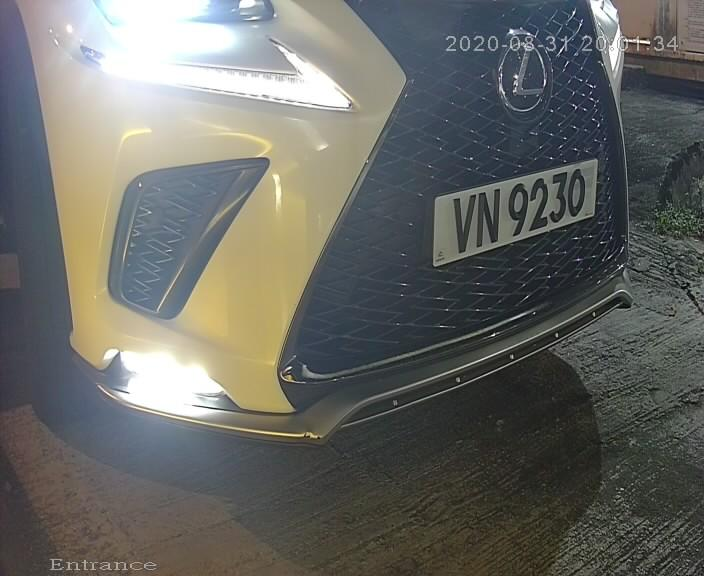License Plate: (425, 145, 601, 276)
